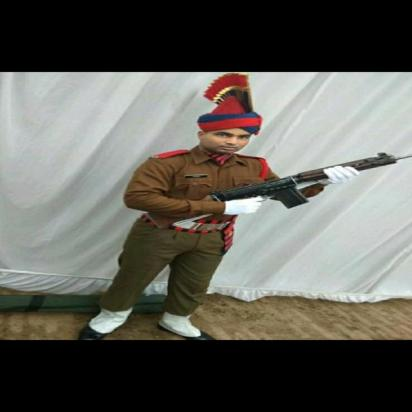Gun: (141, 152, 412, 230)
